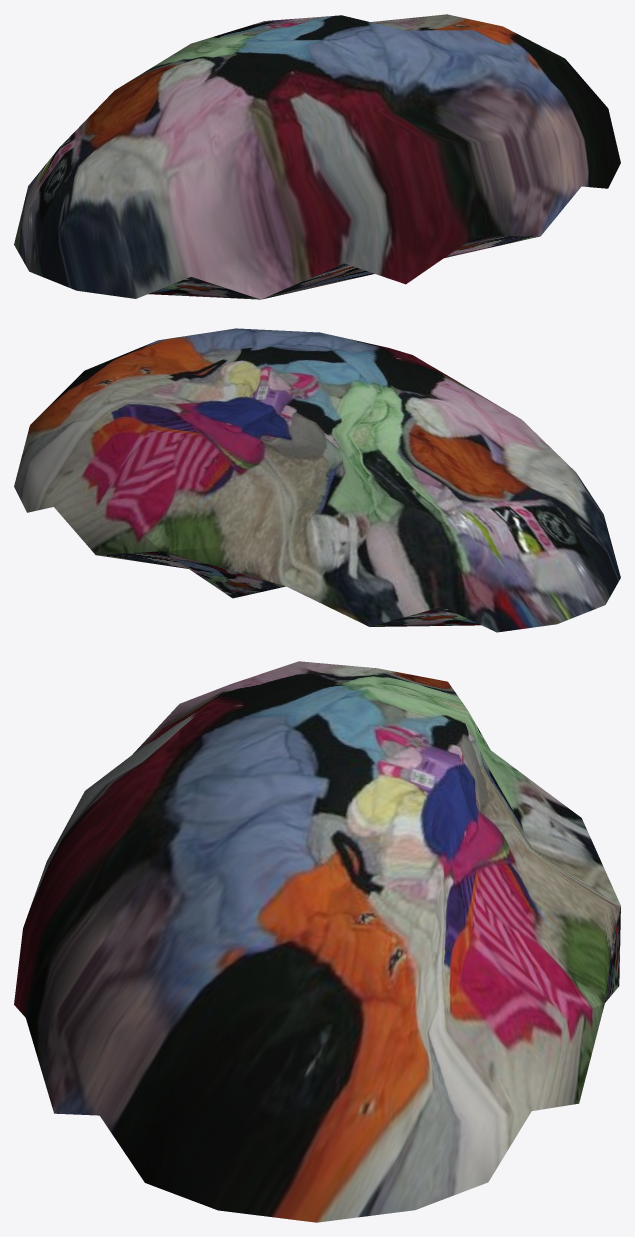
File: clothes.obj
3 renders of one model, top to bottom at view 1: azimuth 30°, elevation 25°; view 2: azimuth 150°, elevation 25°; view 3: azimuth 270°, elevation 25°, orthographic. The views are drawn at different scales.
Parts seen in each view (by area): view 1: body; view 2: body; view 3: body.
Part boxes in pixels (x1=…): body: x1=14, y1=14, x2=620, y2=299; body: x1=14, y1=328, x2=620, y2=632; body: x1=14, y1=661, x2=620, y2=1222.
Bounding box in the file's own units: 28.79 × 8.61 × 16.83.
1 material, 1 textured.
